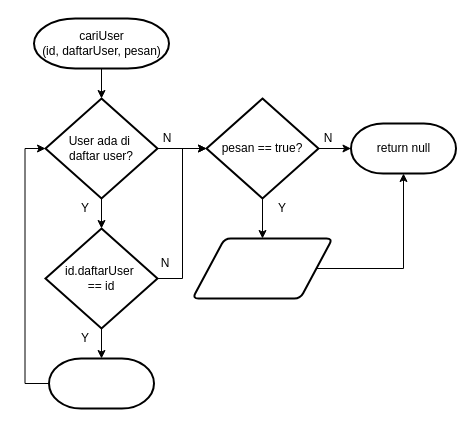
Image size: 474x426. Some labels were removed from this diagram. The shapes that lost their labels are listed below. From the top down, each one's box as (x1, y1, x2, y2) in pixels, then its label:
(191, 237, 333, 299): Output "User dgn ID tsb tidak ditemukan"
(48, 357, 154, 409): return p
